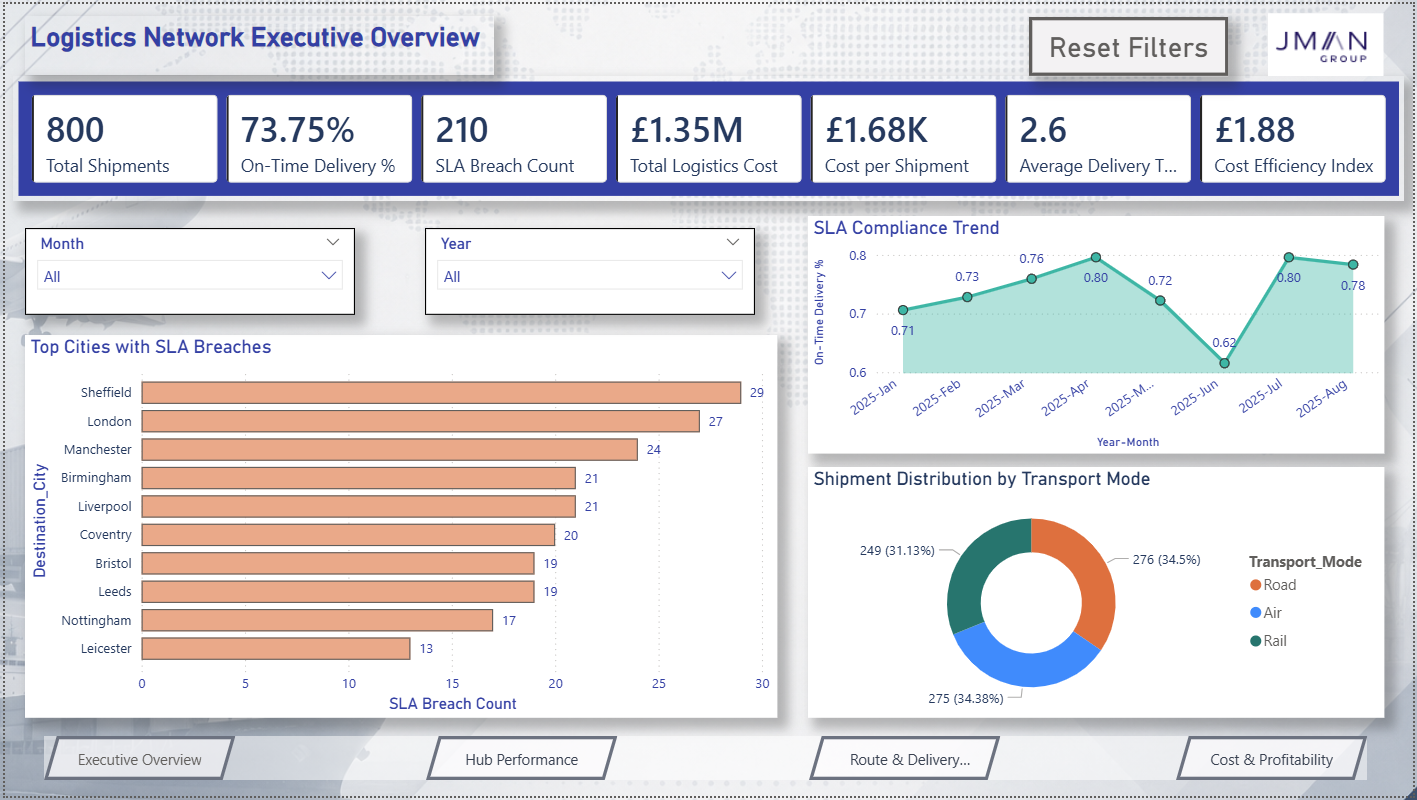

Layout of this report page (visuals, bound fields, positions):
{"tool":"powerbi","page":{"name":"Executive Overview","canvas":[1280,720],"ordinal":0},"visuals":[{"type":"cardVisual","fields":{"Data":["Fact_Shipments.Total Shipments","Fact_Shipments.On-Time Delivery %","Fact_Shipments.SLA Breach Count","Fact_Shipments.Total Logistics Cost","Fact_Shipments.Cost per Shipment","Fact_Shipments.Average Delivery Time","Fact_Shipments.Cost Efficiency Index"]},"box":[7,65,1265,114],"z":0},{"type":"lineChart","title":"SLA Compliance Trend","fields":{"Y":["Fact_Shipments.On-Time Delivery %"],"Category":["Calendar.Year-Month"]},"box":[730,193,524,216],"z":1000},{"type":"donutChart","title":"Shipment Distribution by Transport Mode","fields":{"Category":["Fact_Shipments.Transport_Mode"],"Y":["Fact_Shipments.Total Shipments"]},"box":[730,421,524,228],"z":2000},{"type":"clusteredBarChart","title":"Top Cities with SLA Breaches","fields":{"Category":["Fact_Shipments.Destination_City"],"Y":["Fact_Shipments.SLA Breach Count"]},"box":[18,301,684,348],"z":3000},{"type":"textbox","box":[18,11,426,54],"z":4000},{"type":"slicer","fields":{"Values":["Calendar.Month"]},"box":[18,204,300,79],"z":5000},{"type":"actionButton","box":[35,665,174,40],"z":5000,"group":"g1"},{"type":"actionButton","box":[930.7,12.2,181.2,53.5],"z":6000},{"type":"actionButton","box":[382,665,174,40],"z":6000,"group":"g1"},{"type":"group","id":"g1","title":"Group 1","box":[35,665,1203,40],"z":7000},{"type":"actionButton","box":[730,665,174,40],"z":7000,"group":"g1"},{"type":"slicer","fields":{"Values":["Calendar.Year"]},"box":[382,204,300,79],"z":8000},{"type":"actionButton","box":[1064,665,174,40],"z":8000,"group":"g1"},{"type":"image","box":[1148.5,5.6,105.2,62.9],"z":8001}]}

Visuals, with their boxes in screenshot pixels (x1, y1, x2, y2), scaled from the page's 1280x720 canvas onto the 1417x800 screenshot:
cardVisual - Fact_Shipments.Total Shipments x Fact_Shipments.On-Time Delivery %: select_region(8, 72, 1408, 199)
"SLA Compliance Trend" lineChart: select_region(808, 214, 1388, 454)
"Shipment Distribution by Transport Mode" donutChart: select_region(808, 468, 1388, 721)
"Top Cities with SLA Breaches" clusteredBarChart: select_region(20, 334, 777, 721)
textbox: select_region(20, 12, 492, 72)
slicer - Calendar.Month: select_region(20, 227, 352, 314)
actionButton: select_region(39, 739, 231, 783)
actionButton: select_region(1030, 14, 1231, 73)
actionButton: select_region(423, 739, 616, 783)
"Group 1" group: select_region(39, 739, 1371, 783)
actionButton: select_region(808, 739, 1001, 783)
slicer - Calendar.Year: select_region(423, 227, 755, 314)
actionButton: select_region(1178, 739, 1371, 783)
image: select_region(1271, 6, 1388, 76)
